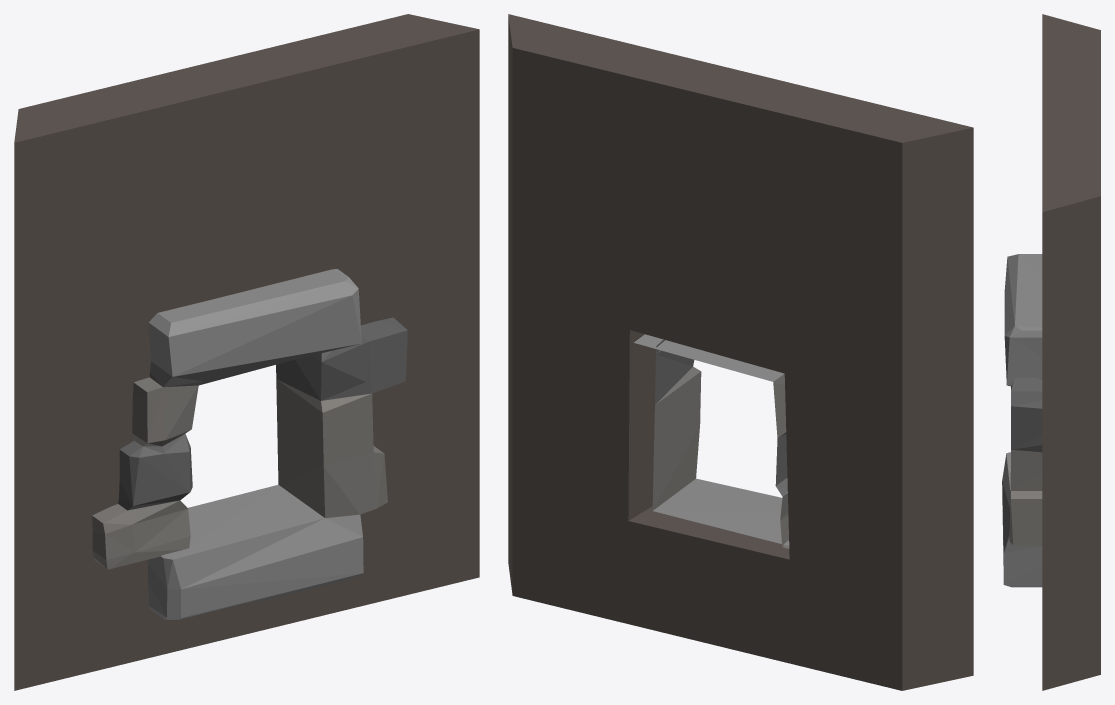
File: MCastle_SquareWalls_RectWin.FBX
The picture shows the model from 3 angles, left to right: view 1: azimuth 30°, elevation 25°; view 2: azimuth 150°, elevation 25°; view 3: azimuth 270°, elevation 25°; orthographic projection. The views are drawn at different scales.
Visible parts, largest first — view 1: MCastle_SquareWall_Base_RectWin_LOD0; view 2: MCastle_SquareWall_Base_RectWin_LOD0; view 3: MCastle_SquareWall_Base_RectWin_LOD0.
Part boxes in pixels (x1,y1,x2,y2): MCastle_SquareWall_Base_RectWin_LOD0: (14,14,479,690); MCastle_SquareWall_Base_RectWin_LOD0: (508,14,973,690); MCastle_SquareWall_Base_RectWin_LOD0: (1002,14,1100,690).
Size of what is drawn, in the model's own units: 4 by 4.5 by 0.8419.
